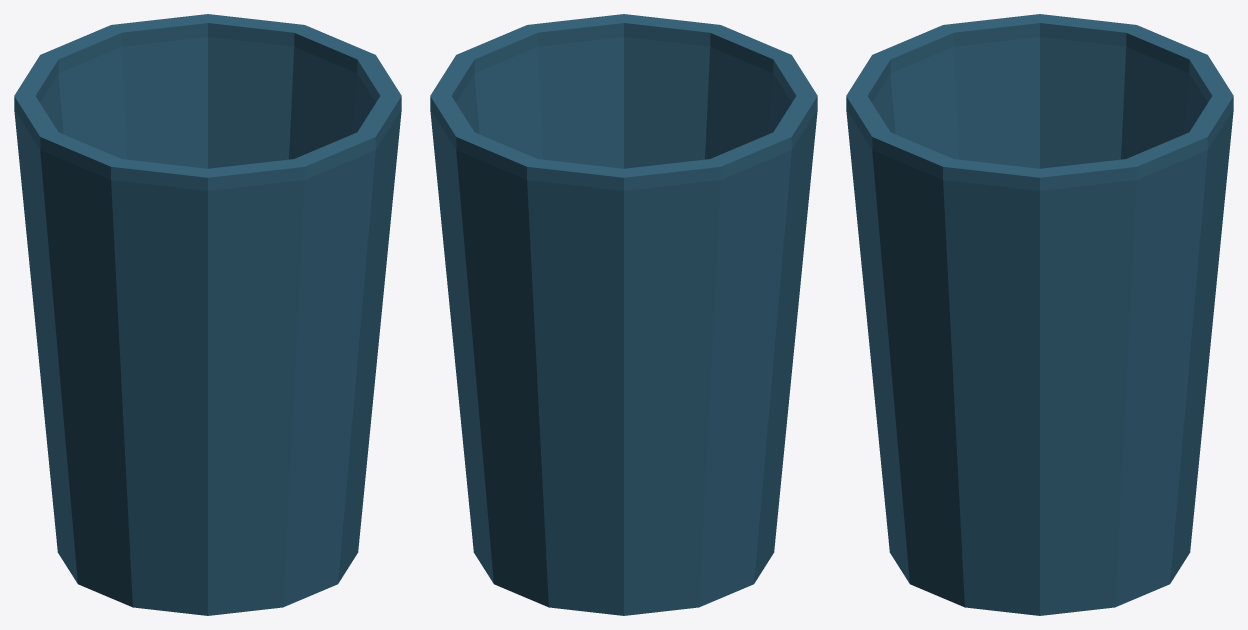
File: bin.glb
3 views of the same model, side by side, from view 1: azimuth 30°, elevation 25°; view 2: azimuth 150°, elevation 25°; view 3: azimuth 270°, elevation 25° (orthographic).
Parts seen in each view (by area): view 1: Open blue bin; view 2: Open blue bin; view 3: Open blue bin.
Boxes of the visible parts, left/top/right/bottom form: Open blue bin: left=14, top=14, right=401, bottom=615; Open blue bin: left=430, top=14, right=817, bottom=615; Open blue bin: left=846, top=14, right=1233, bottom=615.
Bounding box in the file's own units: 0.4 × 0.52 × 0.4.
